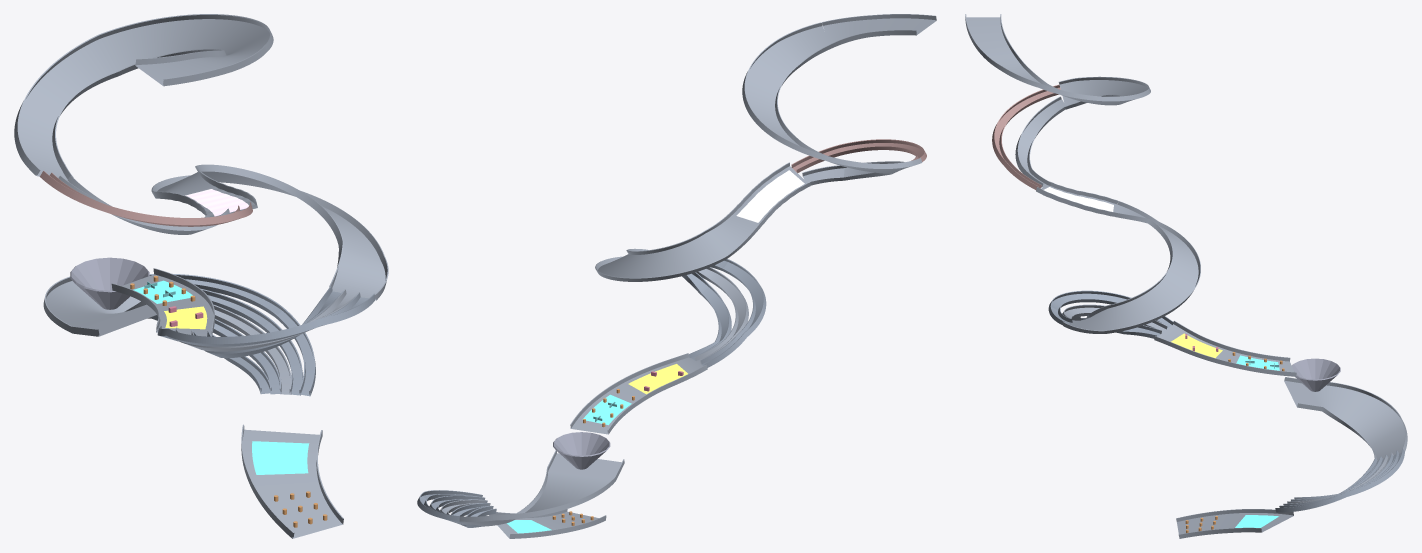
File: marble_track_2.glb
3 renders of one model, left to right at view 1: azimuth 30°, elevation 25°; view 2: azimuth 150°, elevation 25°; view 3: azimuth 270°, elevation 25°, orthographic. The views are drawn at different scales.
Visible parts, largest first — view 1: Track-HelixA, Track-HelixB, Track-Finish, Track-Start, Track-LowerA, Track-Bowl2, Track-SplitC-l2, Track-SplitB-left, Track-TerraceB, Track-SplitA-risk, Deco-Boost-1, Track-SplitC-l1 (+11 smaller); view 2: Track-HelixA, Track-HelixB, Track-LowerA, Track-TerraceB, Track-Start, Track-SplitB-left, Track-SplitA-risk, Track-Bowl2, Track-Finish, Track-SplitB-mid, Deco-Bump-0, Track-SplitB-right (+6 smaller); view 3: Track-HelixB, Track-LowerA, Track-HelixA, Track-TerraceB, Track-Finish, Track-Start, Track-SplitA-safe, Track-SplitA-risk, Track-SplitB-left, Track-Bowl2, Track-SplitC-l2, Track-Washboard (+4 smaller).
Boxes of the visible parts, x1,y1,x2,y2 form: Track-HelixA: (14,14,273,181); Track-HelixB: (151,164,388,300); Track-Finish: (241,424,343,538); Track-Start: (135,45,266,86); Track-LowerA: (43,276,151,333); Track-Bowl2: (70,257,149,309); Track-SplitC-l2: (149,273,315,396); Track-SplitB-left: (157,292,375,346); Track-TerraceB: (111,268,215,336); Track-SplitA-risk: (40,171,252,226); Deco-Boost-1: (252,441,309,474); Track-SplitC-l1: (201,289,303,395); Track-HelixA: (742,22,922,173); Track-HelixB: (595,213,760,281); Track-LowerA: (459,467,615,526); Track-TerraceB: (570,353,707,434); Track-Start: (822,14,936,48); Track-SplitB-left: (700,259,766,367); Track-SplitA-risk: (791,139,926,172); Track-Bowl2: (553,432,610,469); Track-Finish: (489,509,606,538); Track-SplitB-mid: (694,267,748,364); Deco-Bump-0: (736,170,804,222); Track-SplitB-right: (682,272,731,360); Track-HelixB: (1062,201,1200,333); Track-LowerA: (1313,382,1407,460); Track-HelixA: (1001,64,1150,109); Track-TerraceB: (1154,320,1296,376); Track-Finish: (1176,509,1293,538); Track-Start: (965,14,1024,70); Track-SplitA-safe: (1015,96,1066,187); Track-SplitA-risk: (992,84,1060,189); Track-SplitB-left: (1048,290,1173,328); Track-Bowl2: (1292,358,1340,391); Track-SplitC-l2: (1275,448,1404,512); Track-Washboard: (1036,181,1118,216).
Bounding box in the file's own units: 225 × 295 × 283.
